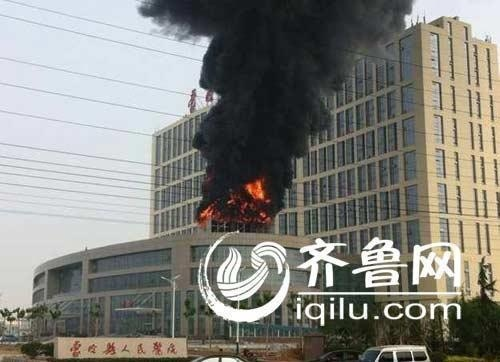fire: (199, 178, 274, 225)
